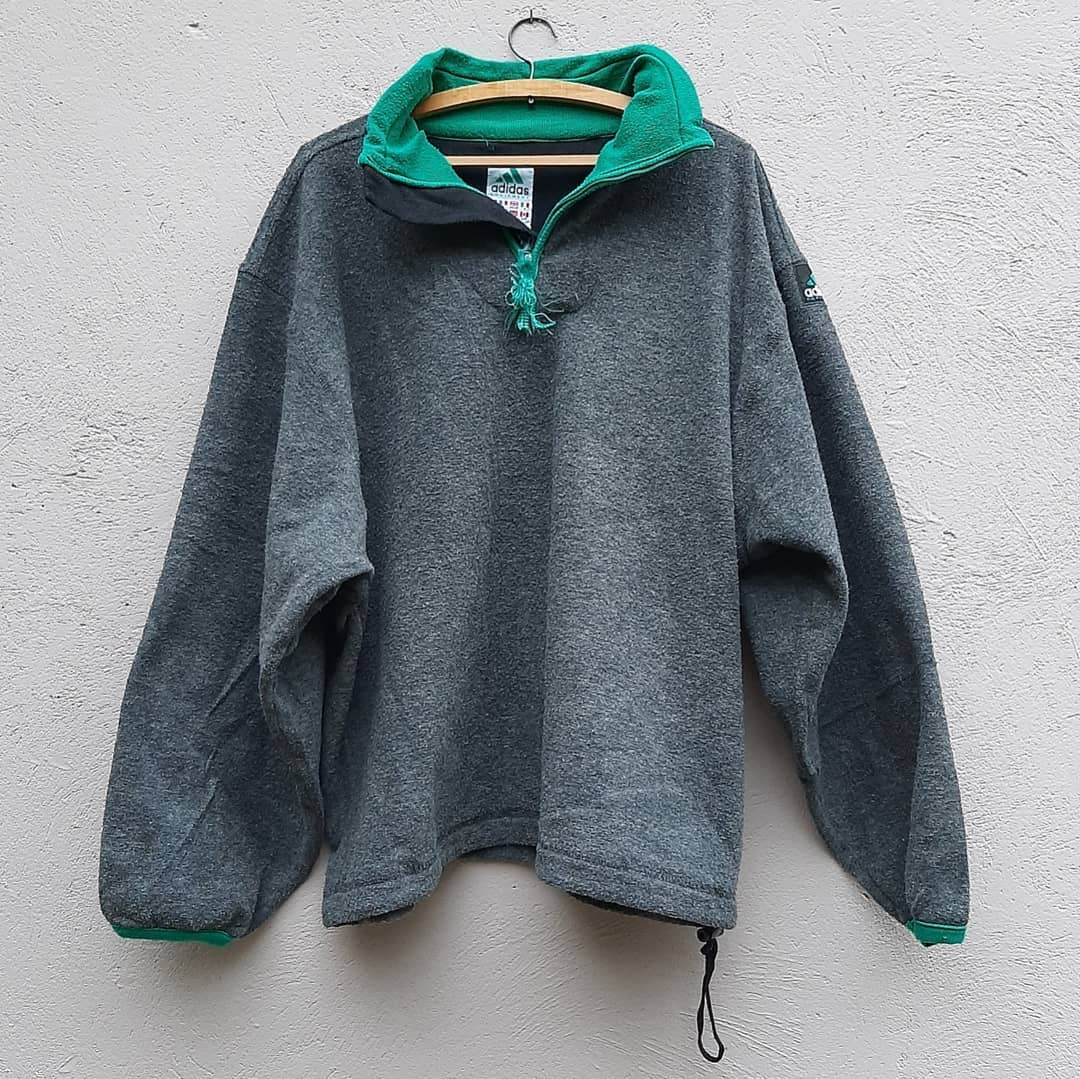adids_1: (487, 147, 536, 202)
